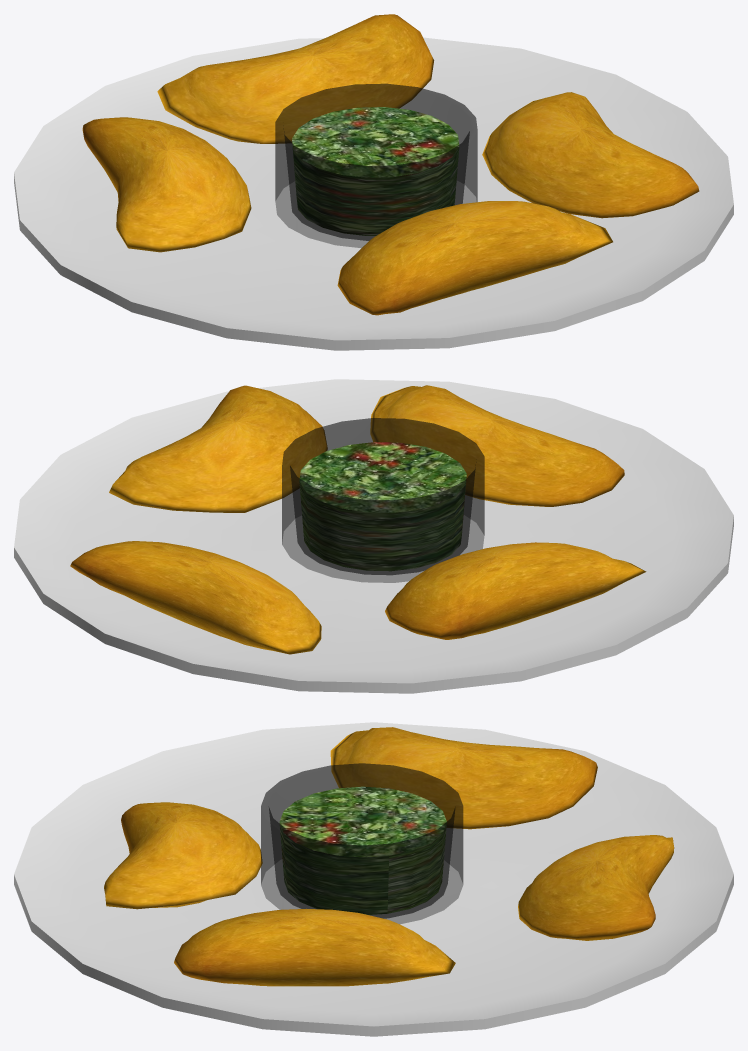
Rendered from empanadas.fbx.
3 views of the same model, one above another, from view 1: azimuth 30°, elevation 25°; view 2: azimuth 150°, elevation 25°; view 3: azimuth 270°, elevation 25° (orthographic).
Parts seen in each view (by area): view 1: pCylinder1, pSphere2, pCylinder2, pSphere4, pCylinder3, pSphere1, pSphere3; view 2: pCylinder1, pCylinder2, pCylinder3, pSphere1, pSphere4, pSphere3, pSphere2; view 3: pCylinder1, pCylinder2, pCylinder3, pSphere3, pSphere1, pSphere4, pSphere2.
Part boxes in pixels (<box>): pCylinder1: <box>14,37,733,350</box>; pSphere2: <box>157,14,434,143</box>; pCylinder2: <box>275,83,477,247</box>; pSphere4: <box>337,201,612,315</box>; pCylinder3: <box>292,107,459,235</box>; pSphere1: <box>482,92,699,218</box>; pSphere3: <box>82,117,251,252</box>; pCylinder1: <box>14,379,733,693</box>; pCylinder2: <box>282,418,484,582</box>; pCylinder3: <box>299,442,466,570</box>; pSphere1: <box>109,385,327,512</box>; pSphere4: <box>370,385,624,506</box>; pSphere3: <box>385,542,646,639</box>; pSphere2: <box>70,541,321,654</box>; pCylinder1: <box>14,722,733,1036</box>; pCylinder2: <box>261,763,463,923</box>; pCylinder3: <box>279,786,446,914</box>; pSphere3: <box>330,727,597,829</box>; pSphere1: <box>174,908,455,986</box>; pSphere4: <box>104,802,262,909</box>; pSphere2: <box>518,835,674,940</box>.
Size of the model in its own units: 10.94 by 1.49 by 10.94.
4 materials, 2 textured.
